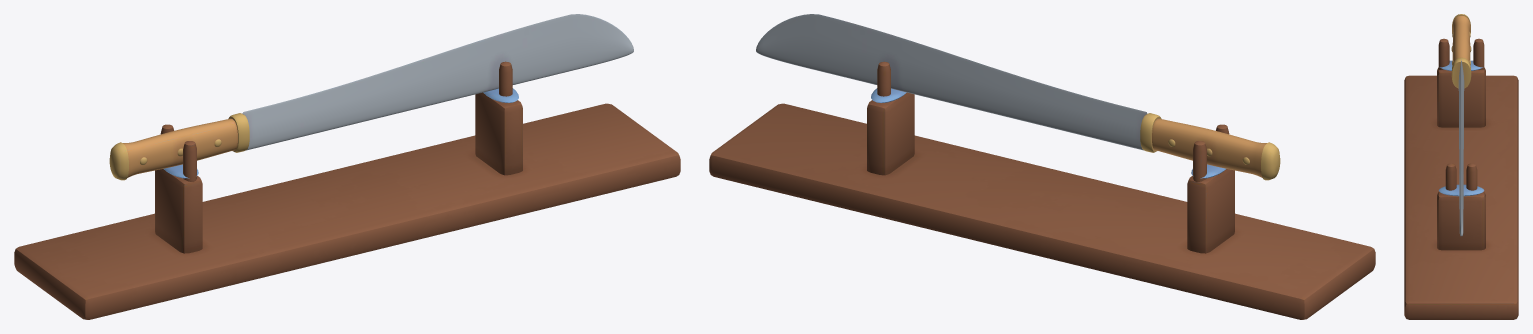
The model's file is machete.glb.
The picture shows the model from 3 angles, left to right: view 1: azimuth 30°, elevation 25°; view 2: azimuth 150°, elevation 25°; view 3: azimuth 270°, elevation 25°; orthographic projection. The views are drawn at different scales.
Visible parts, largest first — view 1: machete_body; view 2: machete_body; view 3: machete_body.
Boxes of the visible parts, left/top/right/bottom form: machete_body: left=14, top=14, right=680, bottom=319; machete_body: left=709, top=14, right=1375, bottom=319; machete_body: left=1404, top=14, right=1518, bottom=319.
Size of the model in its own units: 0.71 by 0.176 by 0.15.
1 material, 1 textured.
